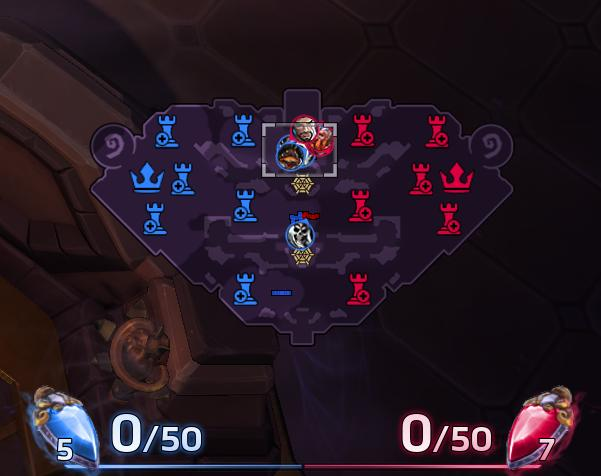blue nexus: (128, 160, 165, 193)
blue player: (275, 136, 310, 172), (285, 217, 314, 249)
blue tower: (141, 200, 168, 236), (231, 187, 258, 222), (153, 113, 179, 148), (170, 161, 196, 196), (230, 112, 255, 147), (232, 270, 257, 305)
red nexus: (439, 161, 475, 193)
red player: (309, 124, 334, 156), (290, 115, 317, 143)
red tower: (347, 187, 373, 222), (349, 112, 375, 147), (424, 113, 449, 148), (408, 161, 433, 195), (436, 201, 461, 235), (346, 271, 371, 305)
